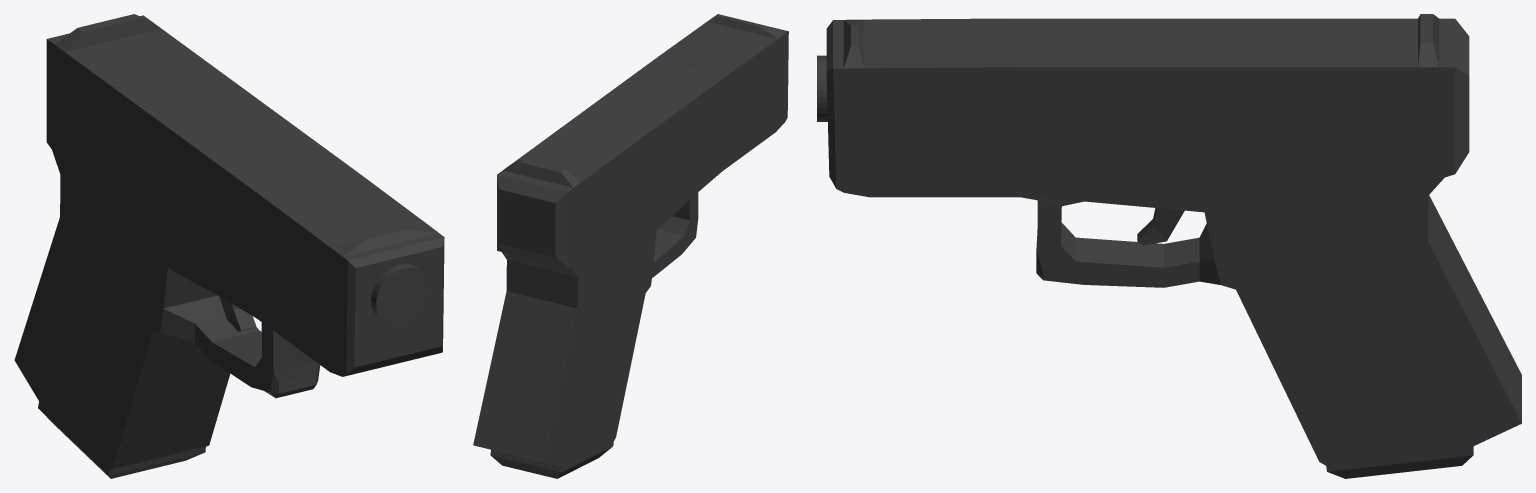
The model's file is Glock (1).fbx.
The picture shows the model from 3 angles, left to right: view 1: azimuth 30°, elevation 25°; view 2: azimuth 150°, elevation 25°; view 3: azimuth 270°, elevation 25°; orthographic projection. The views are drawn at different scales.
Visible parts, largest first — view 1: Cylinder; view 2: Cylinder; view 3: Cylinder.
Part boxes in pixels (x1,y1,x2,y2): Cylinder: (14, 14, 444, 478); Cylinder: (473, 14, 788, 478); Cylinder: (817, 14, 1521, 478).
Bounding box in the file's own units: 34.22 × 141 × 209.
